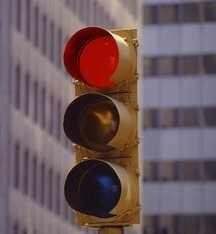red: (59, 23, 145, 227)
